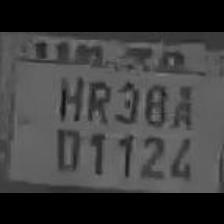1: (83, 120, 108, 174), (112, 126, 136, 178)
2: (134, 128, 166, 180)
4: (166, 125, 194, 181)
8: (140, 74, 168, 128)
A: (168, 76, 194, 136)
D: (52, 116, 82, 170)
H: (54, 67, 82, 123)
R: (83, 70, 109, 126)
